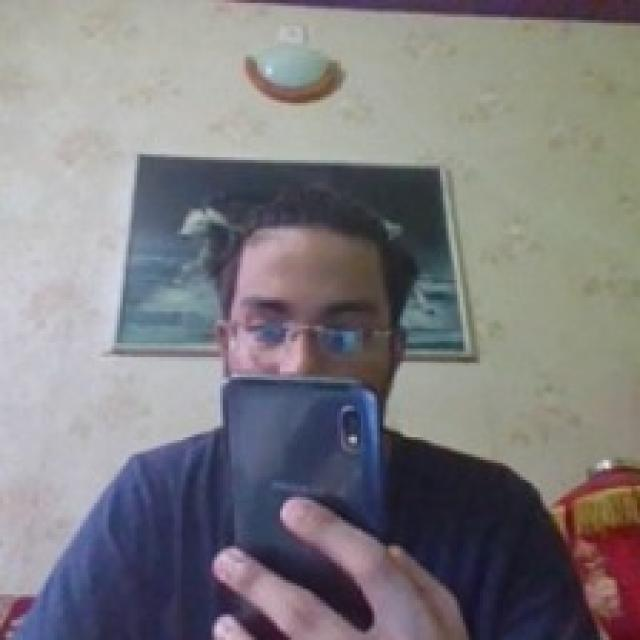Phone: (221, 374, 383, 640)
